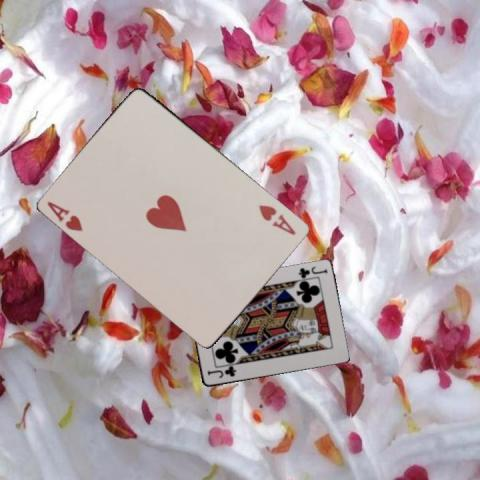Ah: (256, 201, 298, 237), (44, 198, 84, 233)
Jc: (295, 263, 329, 280), (204, 365, 237, 380)
